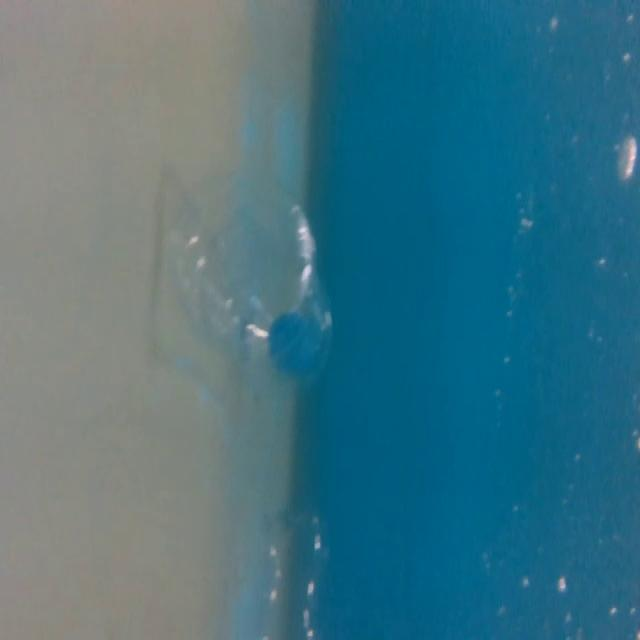plastic bottle: (170, 169, 346, 383), (248, 492, 331, 640)
